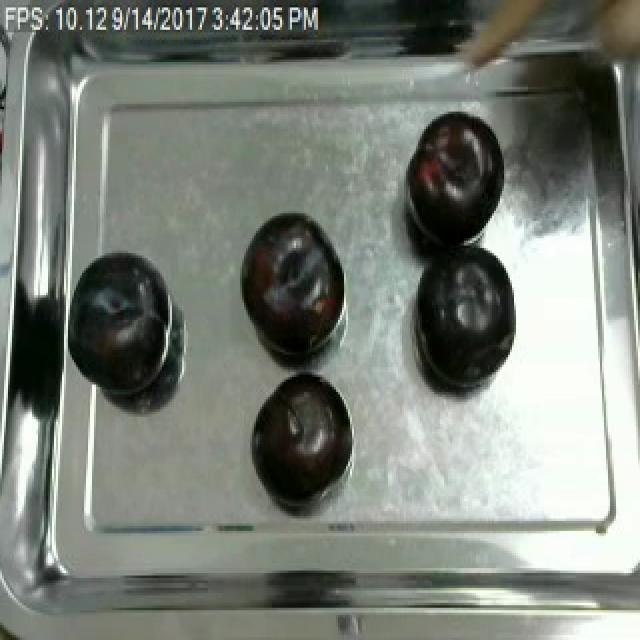Fruit: (64, 246, 174, 400), (410, 240, 520, 394), (236, 208, 344, 360), (402, 107, 506, 256), (246, 370, 350, 501)
